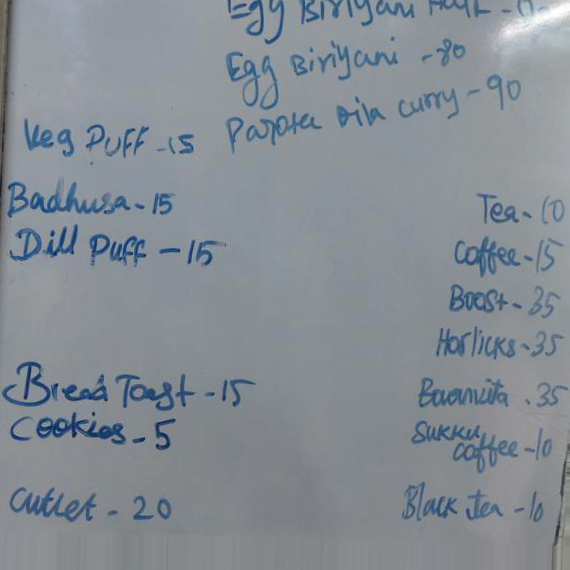Tea - 10: (474, 187, 570, 227)
badhusa -15: (7, 175, 180, 224)
black tea - 10: (401, 479, 552, 532)
boost - 35: (443, 281, 570, 323)
bournvita - 35: (415, 373, 570, 415)
bread toast - 15: (2, 358, 265, 413)
coffee - 15: (448, 231, 570, 276)
cookies - 5: (7, 408, 182, 456)
cutlet - 20: (10, 481, 176, 529)
dill puff - 15: (10, 223, 237, 275)
egg briyani - 80: (214, 33, 412, 92)
horlicks - 35: (435, 327, 570, 366)
parotta - 90: (216, 95, 465, 142)
sukku coffee - 10: (411, 416, 570, 471)
veg puff - 15: (17, 119, 199, 159)
